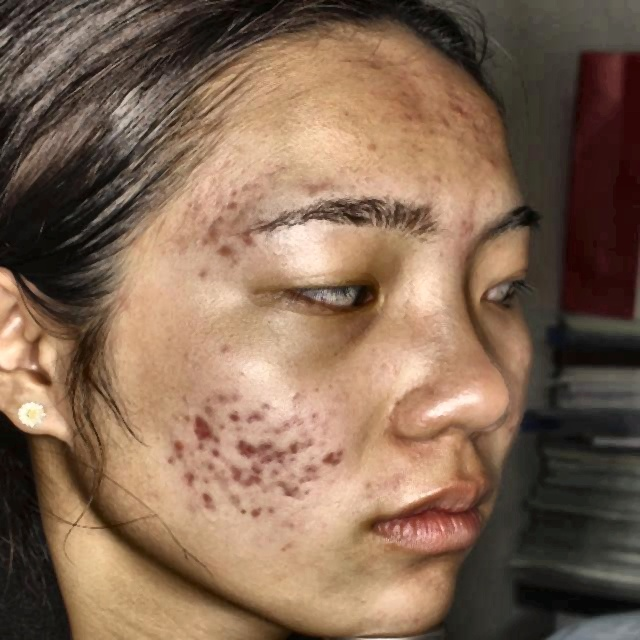papule: (227, 459, 259, 489), (240, 499, 268, 529), (274, 481, 310, 504), (474, 157, 509, 180), (325, 449, 352, 476), (234, 434, 264, 458), (298, 465, 328, 489), (193, 488, 221, 513), (194, 225, 223, 249), (448, 100, 478, 123), (186, 416, 215, 439), (252, 396, 274, 426), (202, 445, 226, 472), (446, 215, 476, 235), (218, 405, 245, 427), (255, 435, 278, 458), (164, 434, 188, 452), (220, 191, 238, 213), (296, 438, 324, 452), (393, 99, 419, 114), (216, 241, 237, 259), (278, 442, 300, 459), (156, 455, 178, 471), (182, 466, 194, 488), (234, 462, 248, 471)
